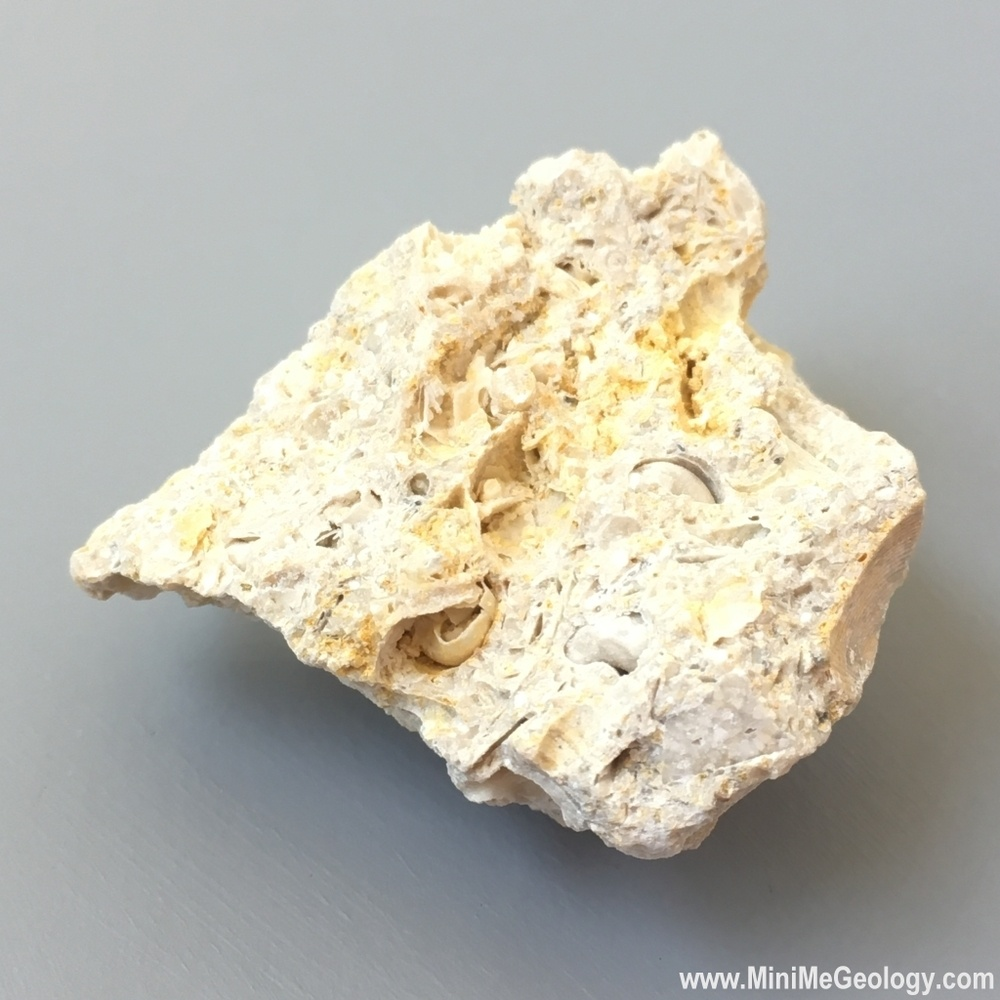obstacle: (71, 132, 923, 857)
